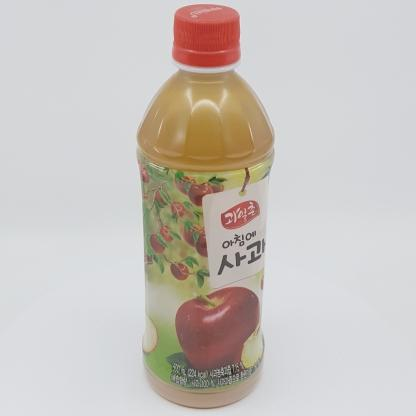--------500ML: (136, 4, 275, 408)
